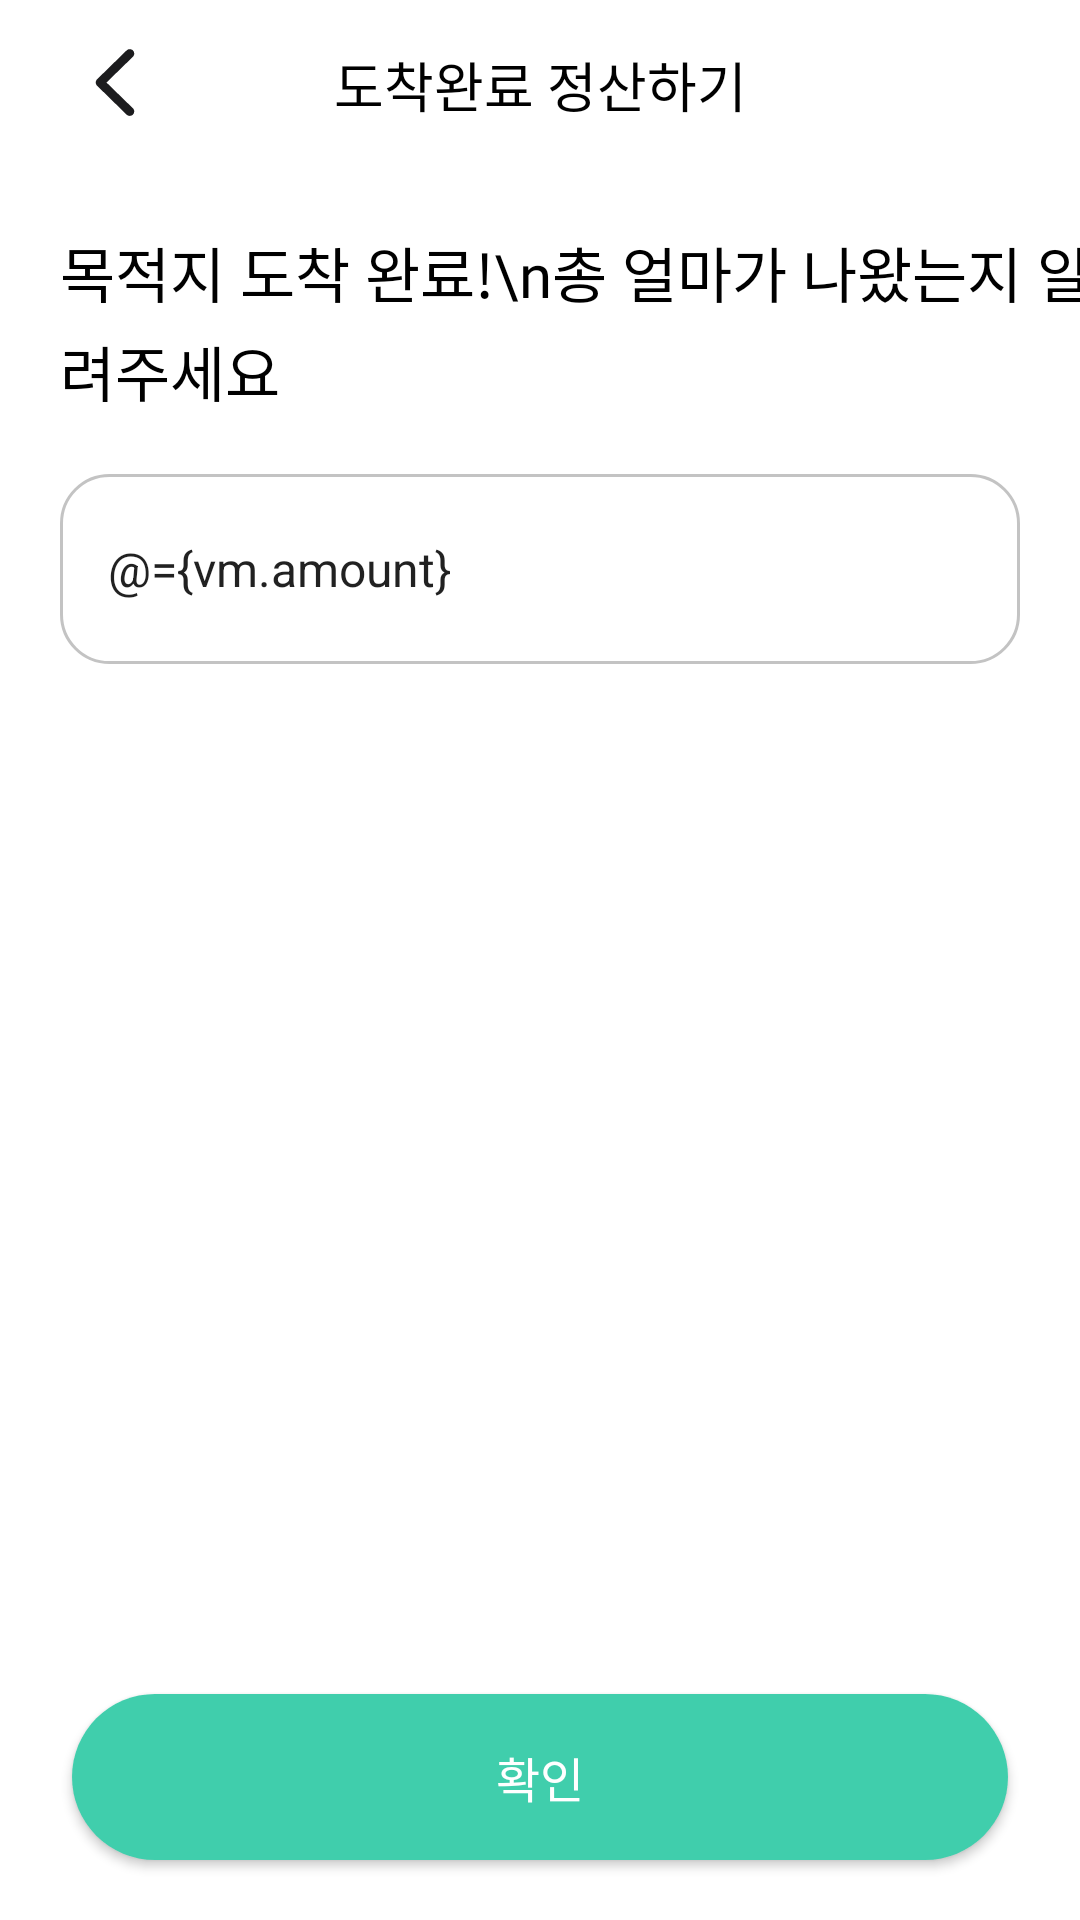

Screen size 1080px x 1920px. Icon name, then its center in pixels as [x,y]:
backward: [115,82]
